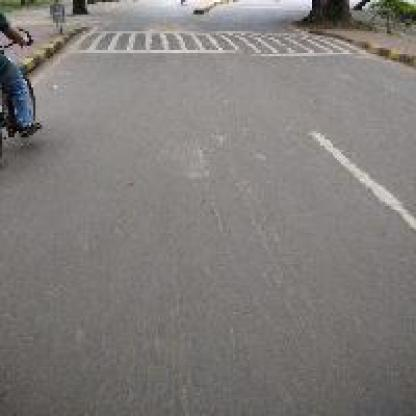Speed Bump: (76, 31, 352, 58)
